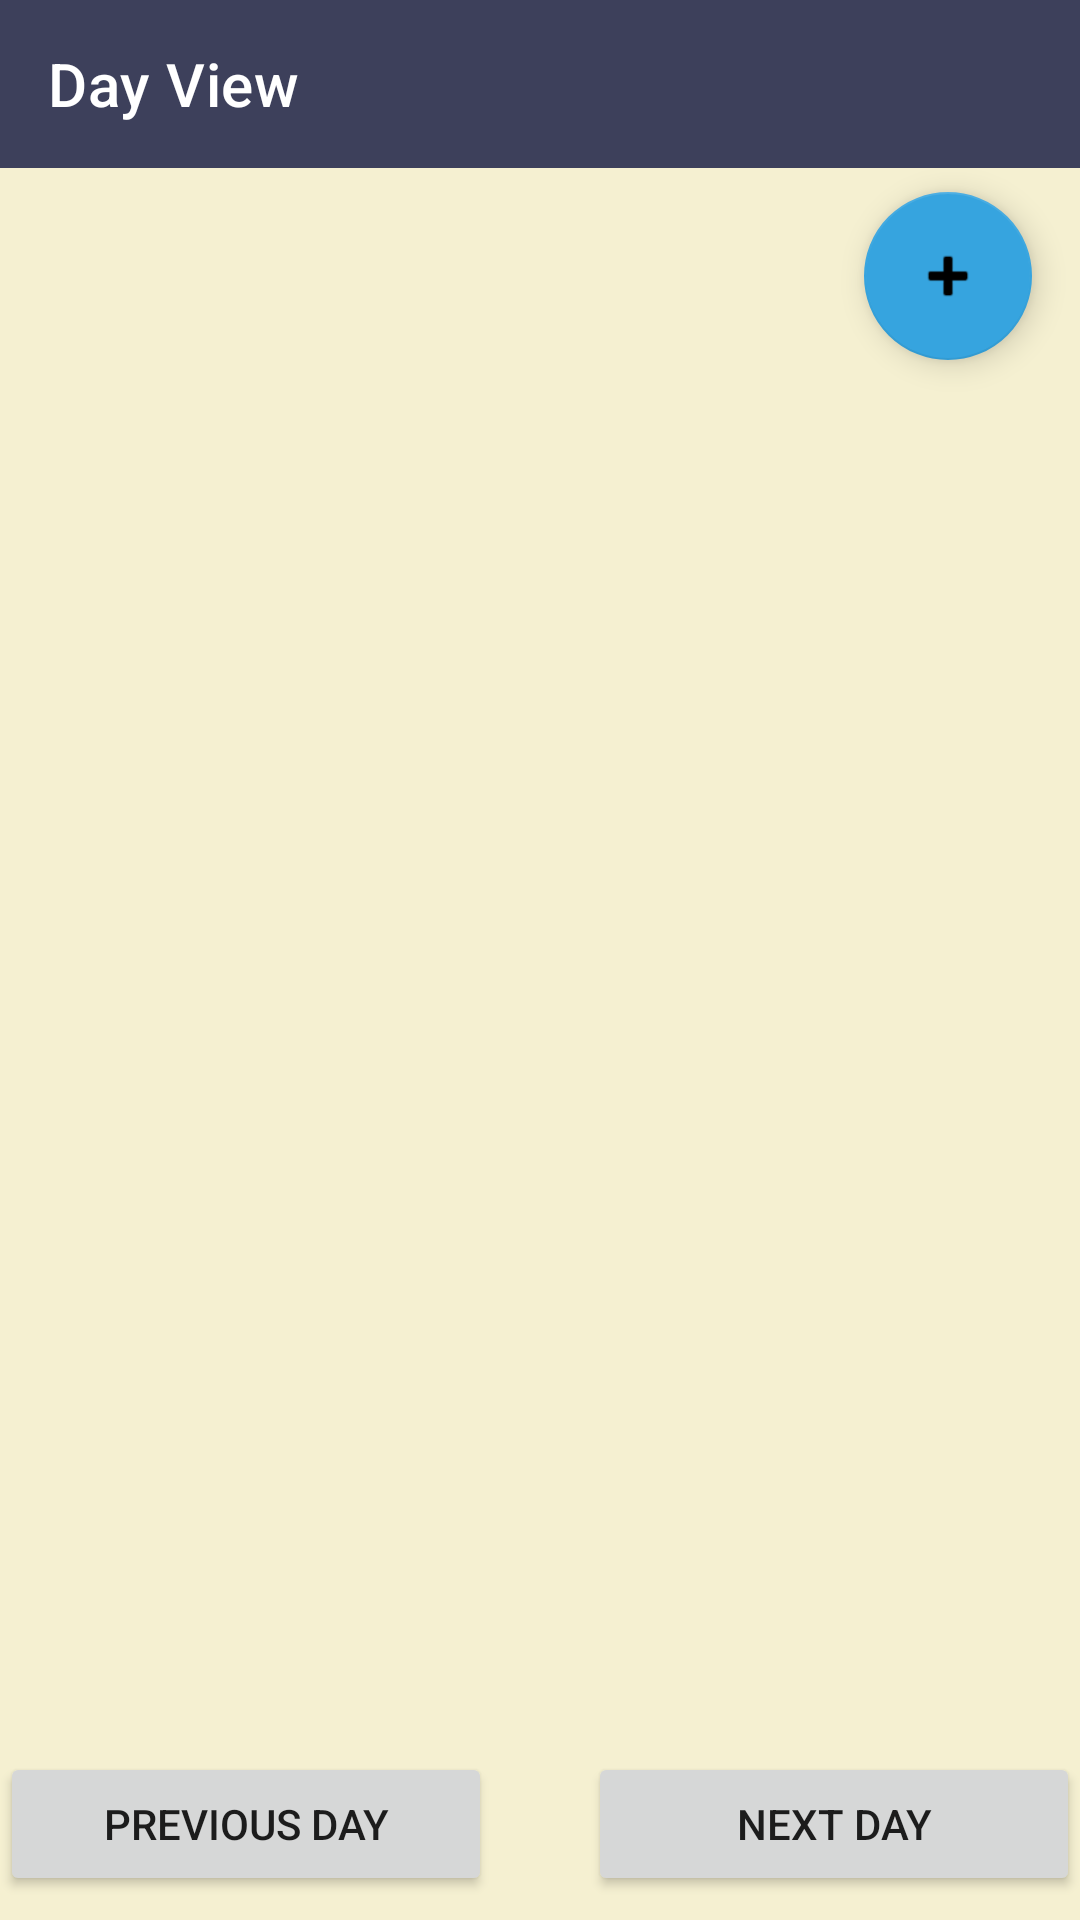

Icons on this 1080 x 1920 Android screen, each with the point to tap as (x=x, y=y):
add: (x=948, y=276)
